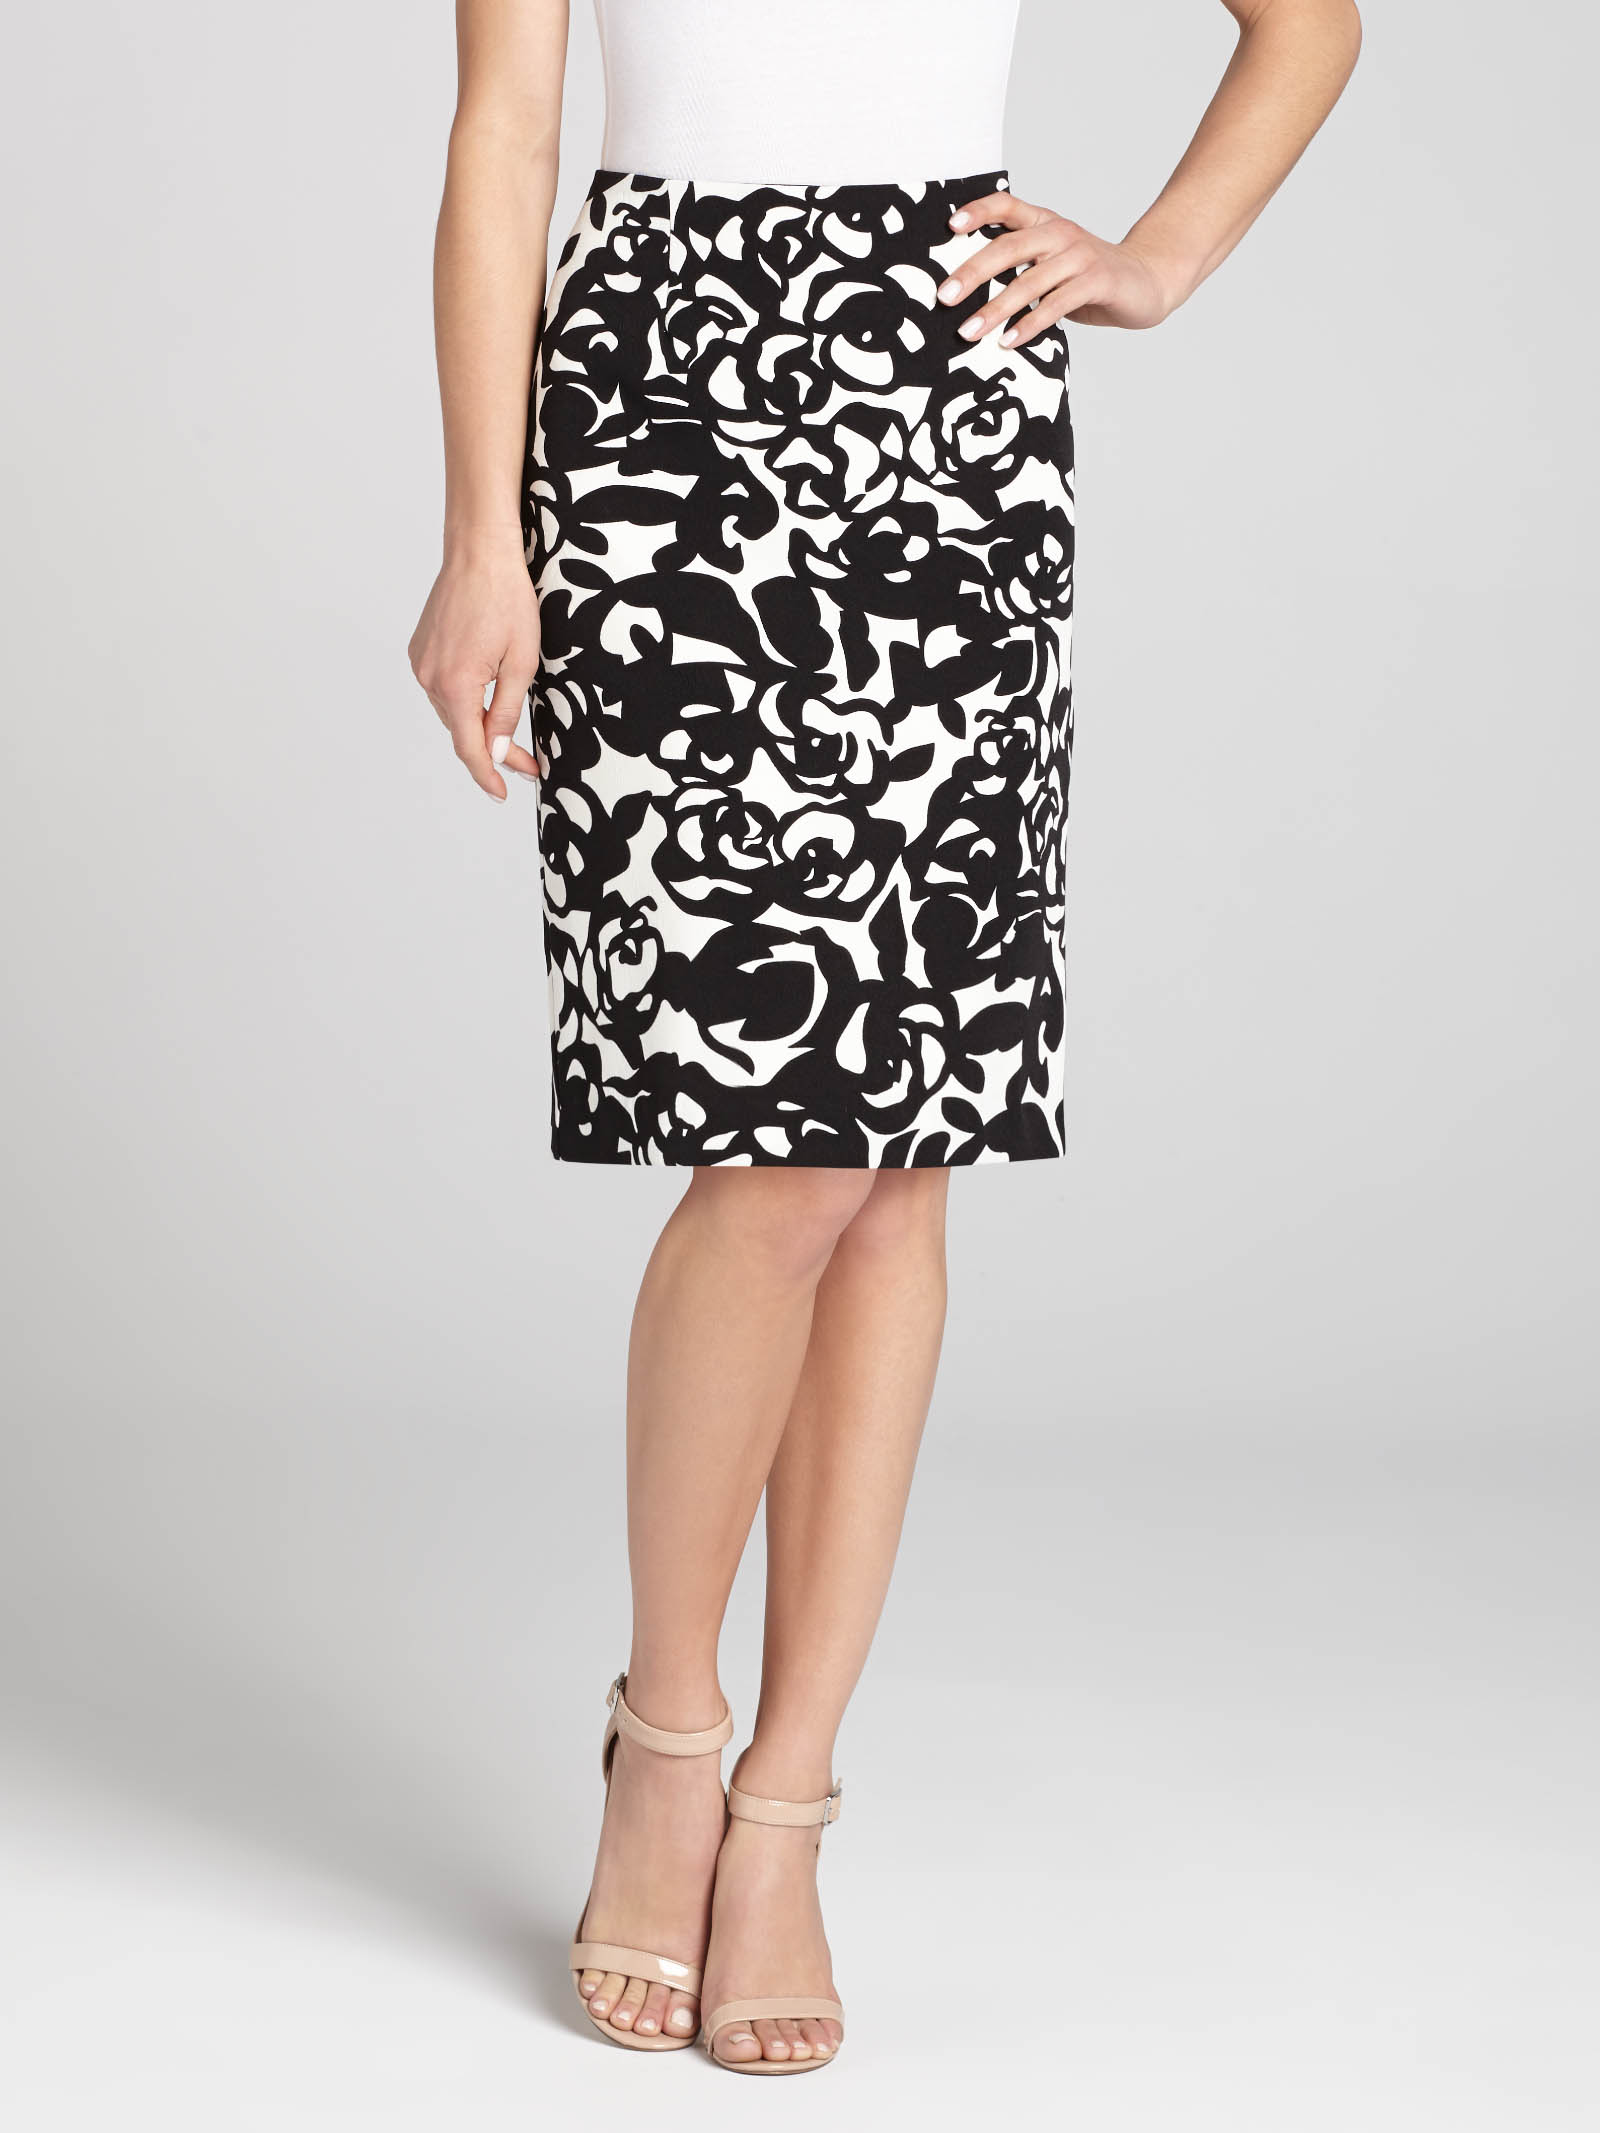C_sandals: (545, 1652, 909, 2098)
C_skirt: (503, 153, 1160, 1197)
